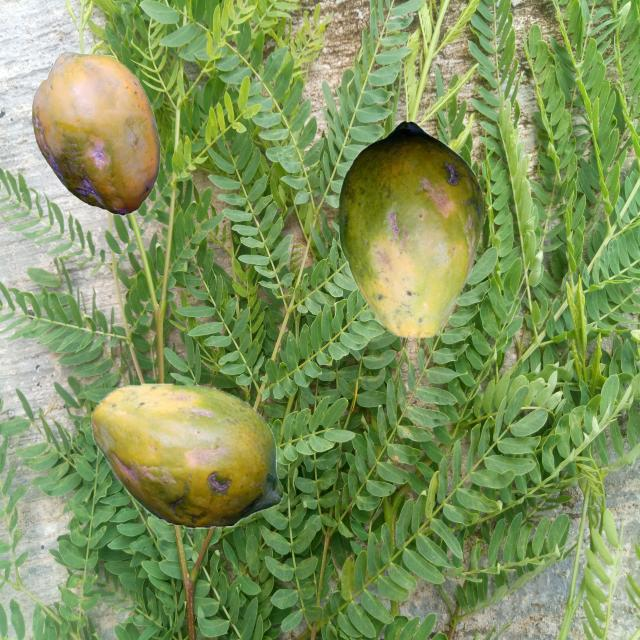Pepaya rippen: (331, 128, 487, 358), (73, 376, 287, 528), (22, 48, 165, 221)
